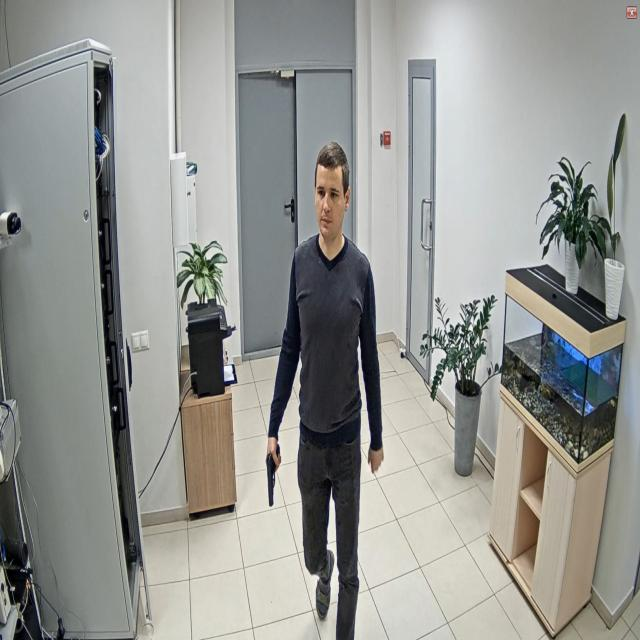-Gun: (267, 443, 280, 506)
